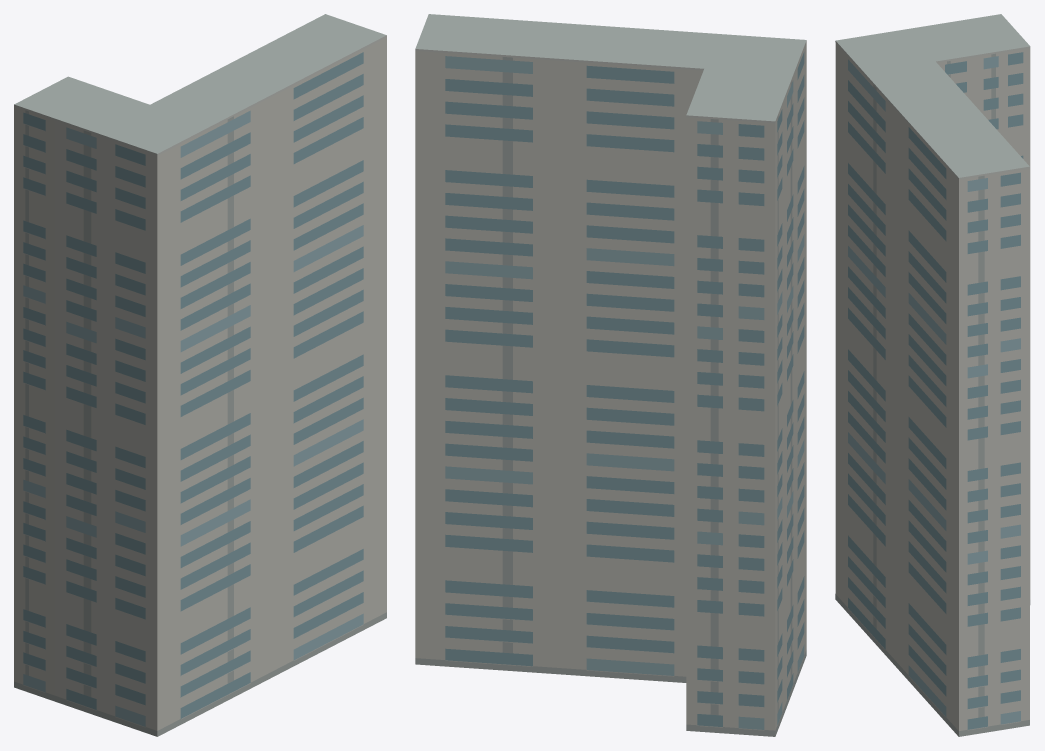
The model's file is residential-e6715201-19f8-41aa-846c-31c0b1ab1498.glb.
3 views of the same model, side by side, from view 1: azimuth 30°, elevation 25°; view 2: azimuth 150°, elevation 25°; view 3: azimuth 270°, elevation 25° (orthographic). The views are drawn at different scales.
Visible parts, largest first — view 1: residential-e6715201-19f8-41aa-846c-31c0b1ab1498.tmp; view 2: residential-e6715201-19f8-41aa-846c-31c0b1ab1498.tmp; view 3: residential-e6715201-19f8-41aa-846c-31c0b1ab1498.tmp.
Part boxes in pixels (left/top/right/bottom): residential-e6715201-19f8-41aa-846c-31c0b1ab1498.tmp: left=14, top=14, right=386, bottom=736; residential-e6715201-19f8-41aa-846c-31c0b1ab1498.tmp: left=415, top=14, right=806, bottom=736; residential-e6715201-19f8-41aa-846c-31c0b1ab1498.tmp: left=835, top=14, right=1030, bottom=736.
Size of the model in its own units: 48.45 by 77 by 24.35.
